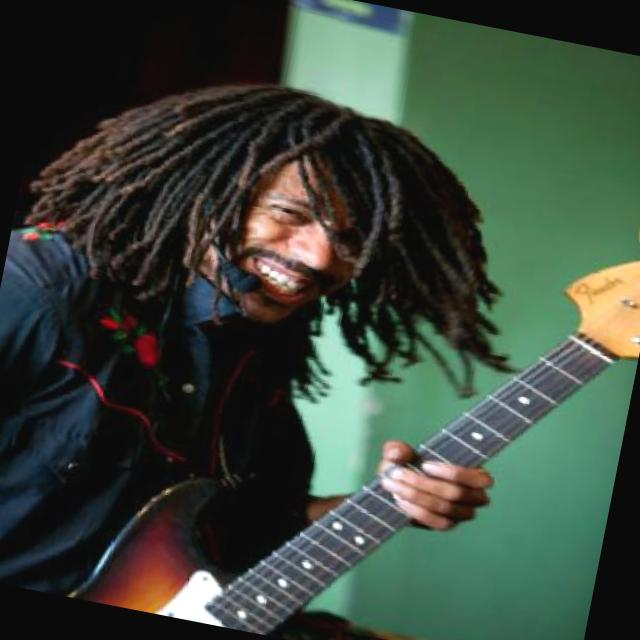Person: (0, 39, 618, 640)
